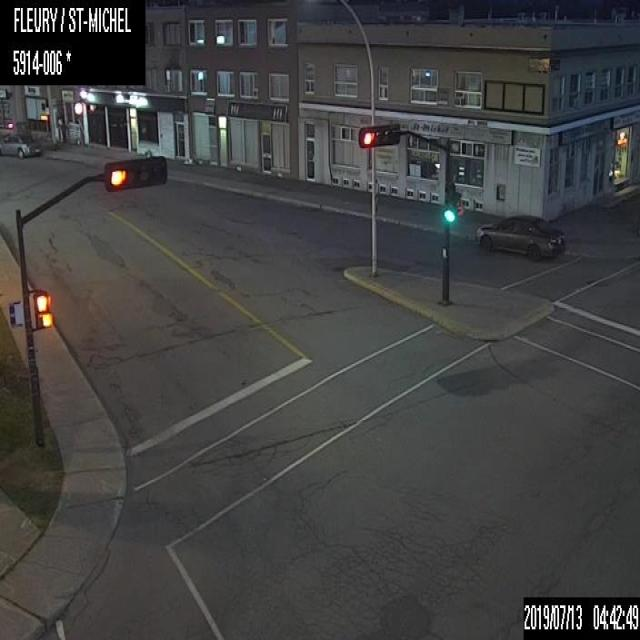vehicle: (476, 212, 568, 259), (0, 128, 45, 159)
